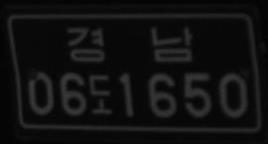0: (218, 72, 247, 119), (27, 70, 54, 116)
1: (116, 72, 140, 117)
5: (183, 71, 212, 119)
6: (147, 72, 177, 119), (59, 71, 87, 116)
경남_D: (67, 26, 195, 63)
도: (88, 73, 113, 115)
